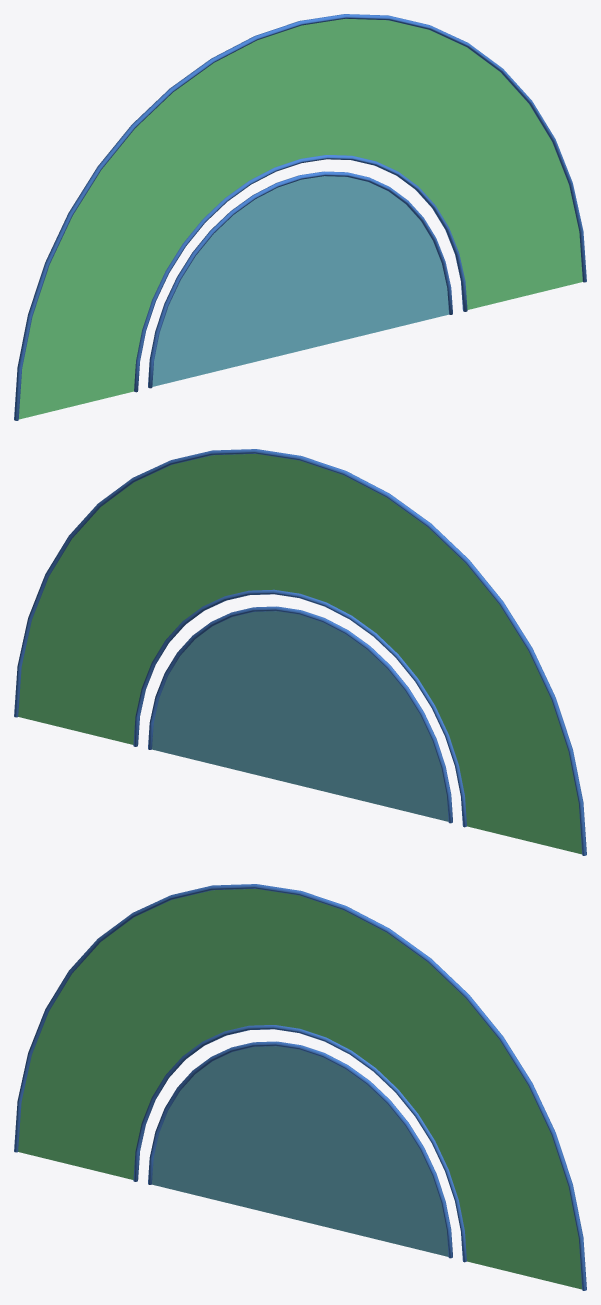
File: Thin Gate.fbx
3 views of the same model, one above another, from view 1: azimuth 30°, elevation 25°; view 2: azimuth 150°, elevation 25°; view 3: azimuth 330°, elevation 25° (orthographic).
Parts seen in each view (by area): view 1: Thin_Gate; view 2: Thin_Gate; view 3: Thin_Gate.
Boxes of the visible parts, x1,y1,x2,y2 form: Thin_Gate: (14,14,586,420); Thin_Gate: (14,449,586,855); Thin_Gate: (14,884,586,1290).
Bounding box in the file's own units: 721 × 398 × 5.68.
